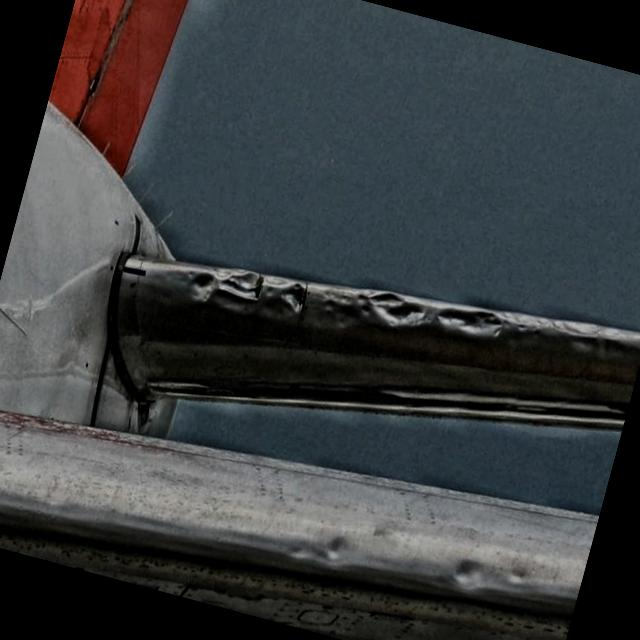dent: (354, 282, 432, 339), (212, 264, 274, 326), (434, 296, 504, 342), (264, 276, 308, 324), (184, 264, 223, 310), (323, 524, 362, 568), (449, 554, 486, 597)
